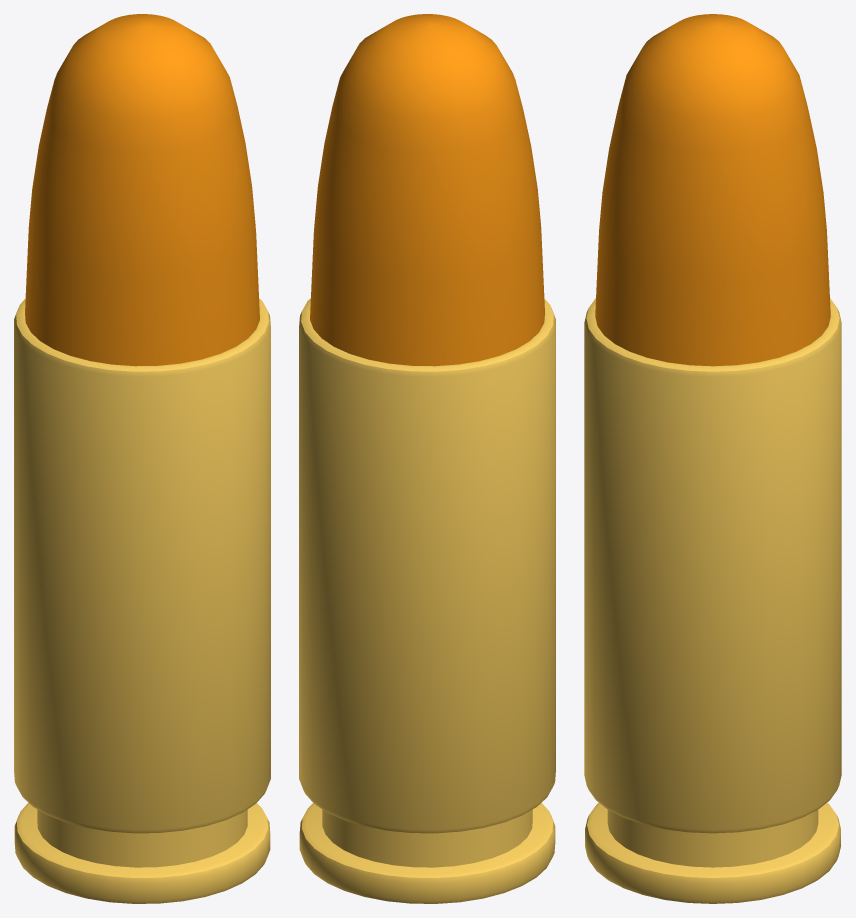
File: bullet.fbx
The picture shows the model from 3 angles, left to right: view 1: azimuth 30°, elevation 25°; view 2: azimuth 150°, elevation 25°; view 3: azimuth 270°, elevation 25°; orthographic projection.
Visible parts, largest first — view 1: Cylinder.019; view 2: Cylinder.019; view 3: Cylinder.019.
Boxes of the visible parts, x1,y1,x2,y2 form: Cylinder.019: [14, 14, 270, 903]; Cylinder.019: [299, 14, 555, 903]; Cylinder.019: [584, 14, 841, 903].
Size of the model in its own units: 3.76 by 13.43 by 3.76.
1 material, 1 textured.
